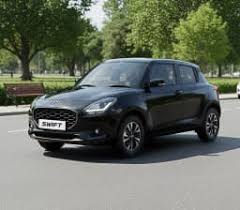Swift: (28, 55, 225, 156)
